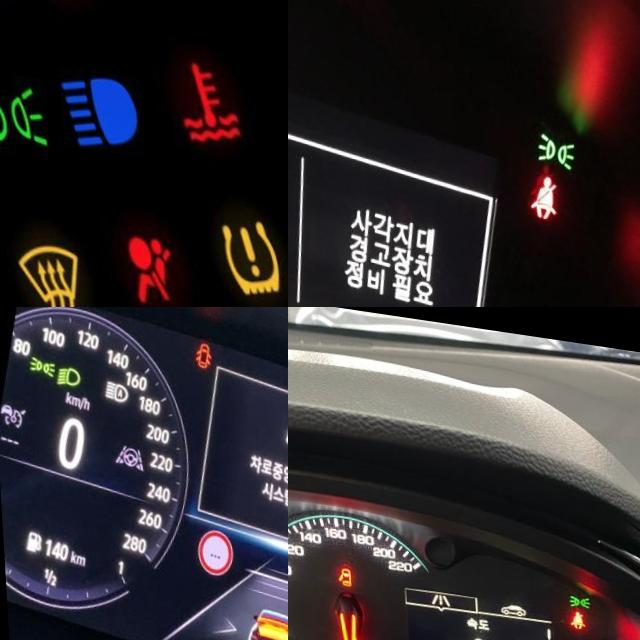Doors: (189, 332, 211, 363), (334, 558, 349, 578)
Engine cooling system: (160, 36, 241, 135)
Low beam: (51, 358, 80, 389)
SideLamp: (0, 65, 47, 153), (531, 113, 573, 155), (24, 351, 53, 376), (565, 578, 587, 593)
